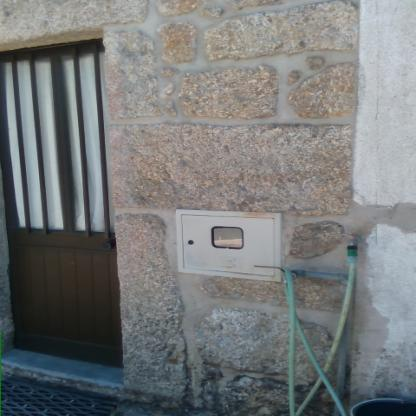closed: (0, 19, 121, 389)
